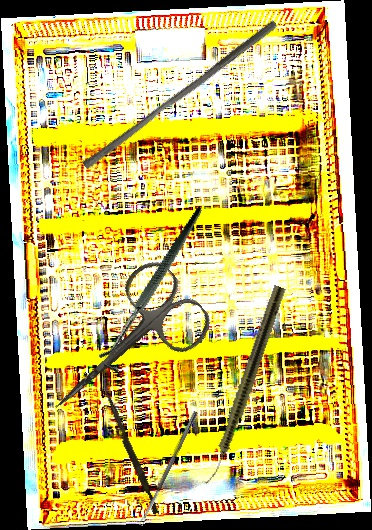Handpiece: (203, 284, 287, 488)
Hook Surgical: (58, 205, 252, 377)
Iris Scissors: (22, 253, 220, 443)
Pusher: (81, 12, 279, 177), (100, 390, 162, 515)
Surgical Spoon: (138, 410, 198, 527)
